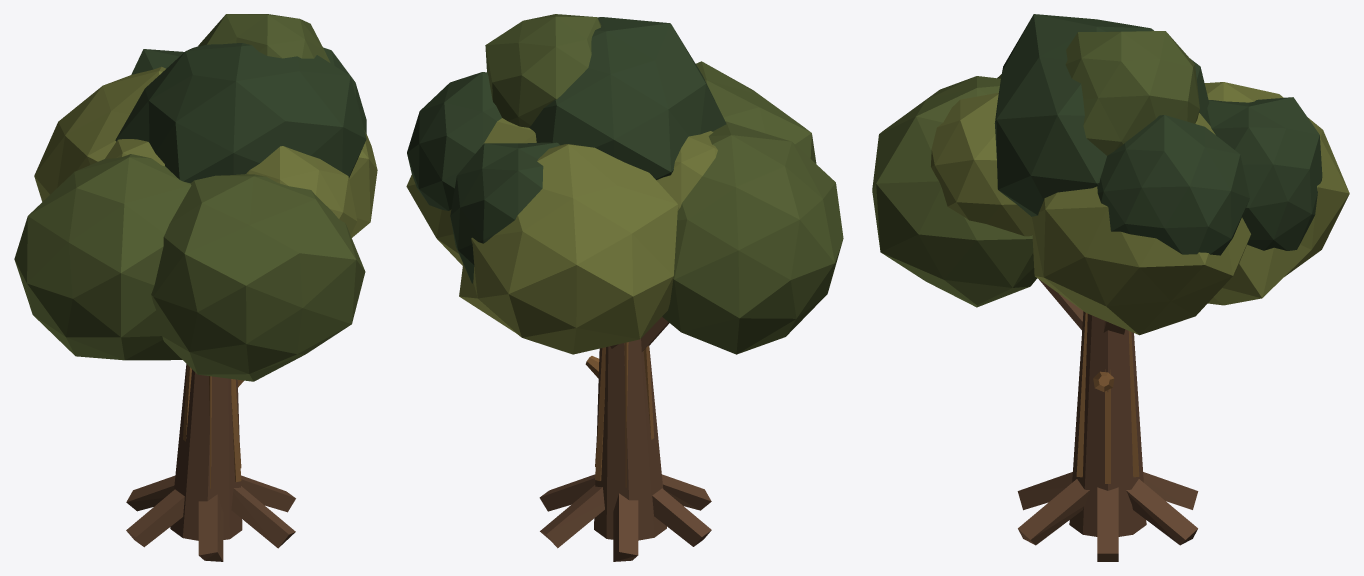
The model's file is tree_oak.glb.
The picture shows the model from 3 angles, left to right: view 1: azimuth 30°, elevation 25°; view 2: azimuth 150°, elevation 25°; view 3: azimuth 270°, elevation 25°; orthographic projection. The views are drawn at different scales.
Parts seen in each view (by area): view 1: Foliage, Timber; view 2: Foliage, Timber; view 3: Foliage, Timber.
Part boxes in pixels (<box>): Foliage: <box>14,14,377,381</box>; Timber: <box>126,364,295,561</box>; Foliage: <box>406,14,843,354</box>; Timber: <box>539,317,711,561</box>; Foliage: <box>872,14,1349,335</box>; Timber: <box>1017,279,1198,561</box>.
Size of the model in its own units: 4.78 by 6.06 by 4.99.
